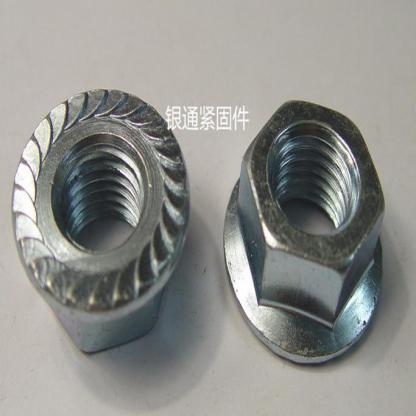FOD: (9, 85, 195, 358), (221, 95, 389, 366)
